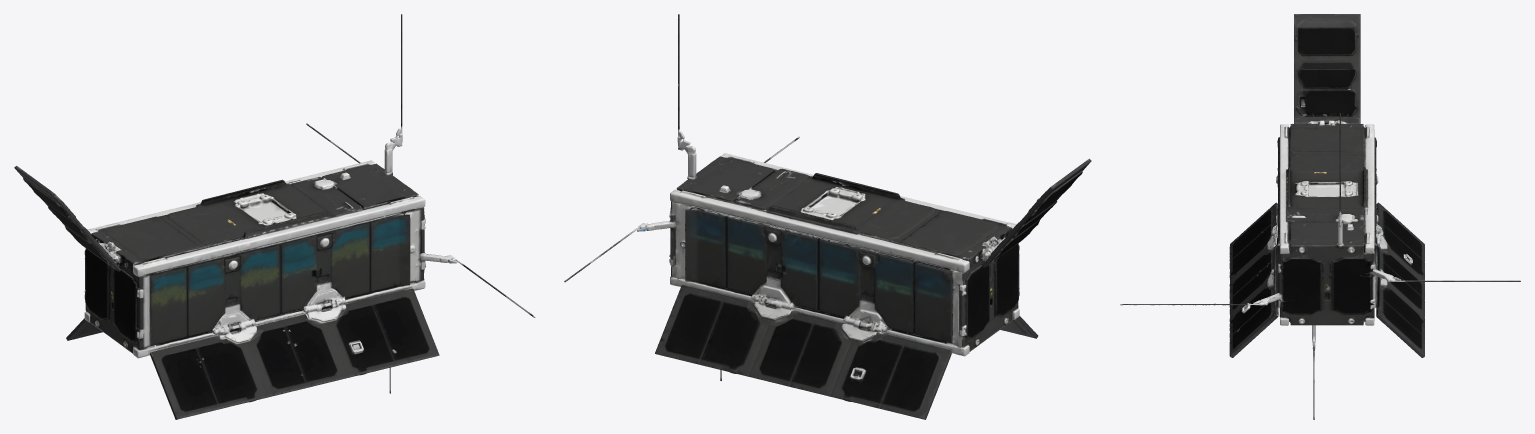
The model's file is ukube.glb.
3 views of the same model, side by side, from view 1: azimuth 30°, elevation 25°; view 2: azimuth 150°, elevation 25°; view 3: azimuth 270°, elevation 25° (orthographic). The views are drawn at different scales.
Size of the model in its own units: 1.85 by 1.66 by 1.9.
Materials: 1 (1 with a texture image).
